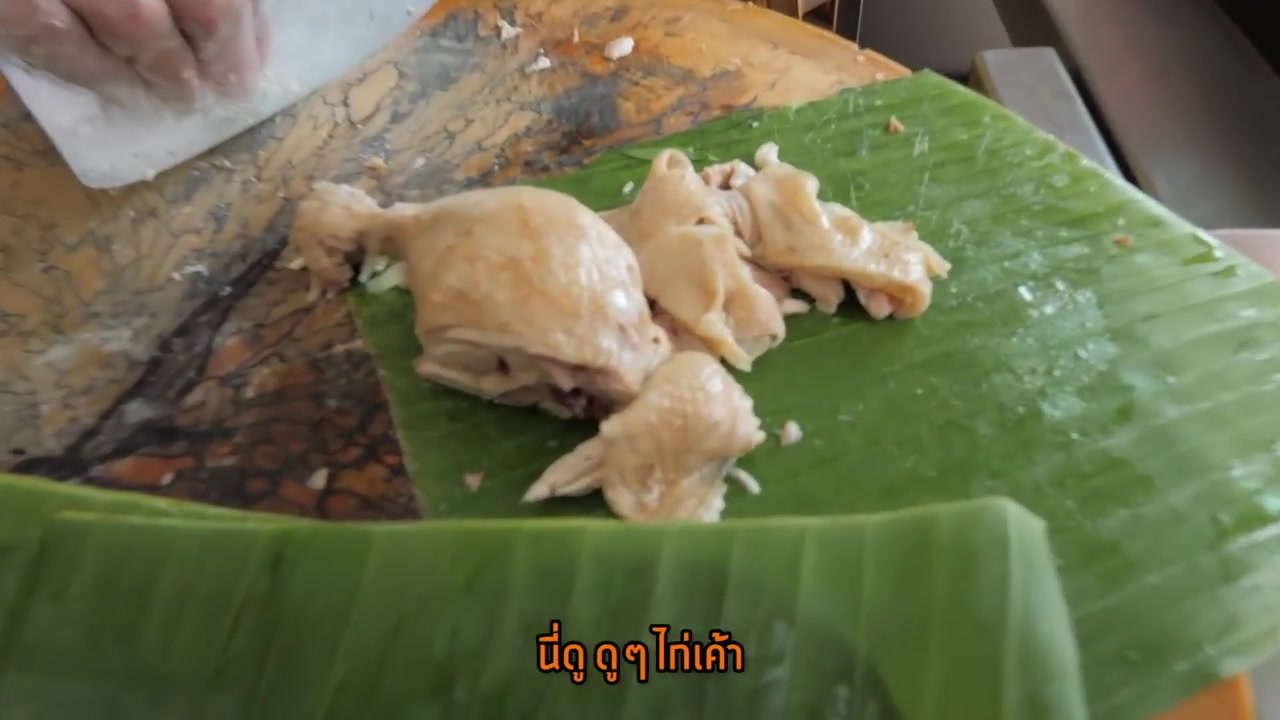text-label: (530, 618, 745, 686)
